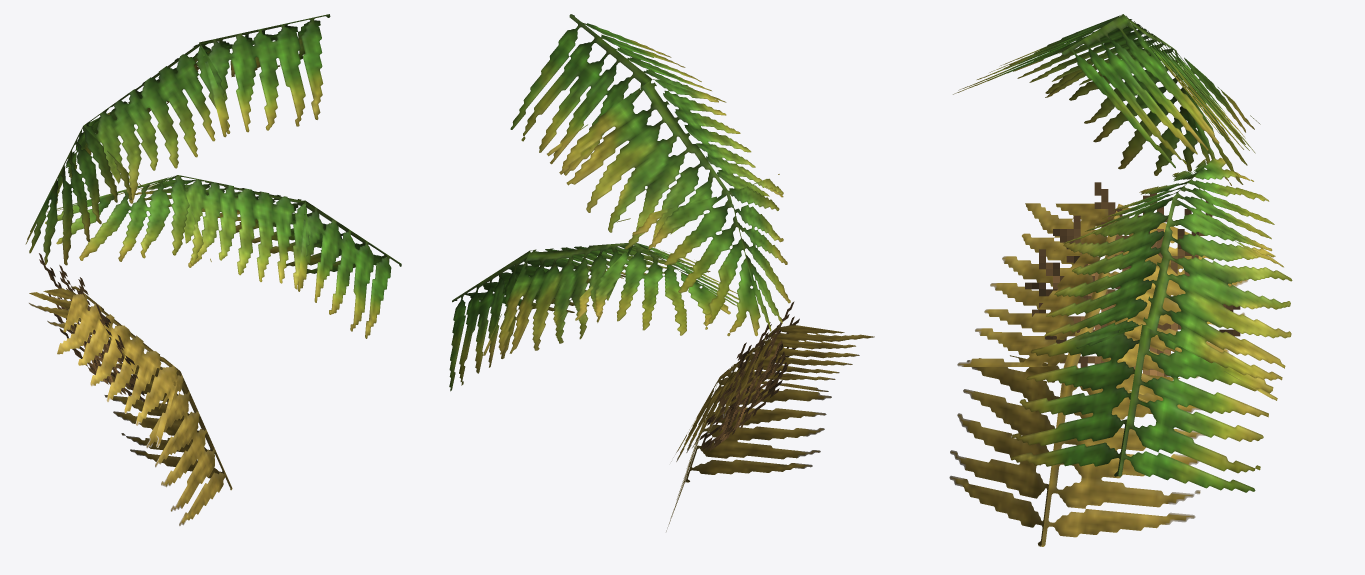
File: caribbean_royal_palm_old_straight_2.obj
3 views of the same model, side by side, from view 1: azimuth 30°, elevation 25°; view 2: azimuth 150°, elevation 25°; view 3: azimuth 270°, elevation 25° (orthographic). The views are drawn at different scales.
Parts seen in each view (by area): view 1: cube.464; view 2: cube.464; view 3: cube.464.
Boxes of the visible parts, x1,y1,x2,y2 form: cube.464: [25, 14, 401, 526]; cube.464: [449, 14, 874, 531]; cube.464: [949, 14, 1292, 546].
Bounding box in the file's own units: 3.81 × 4.33 × 2.8.
